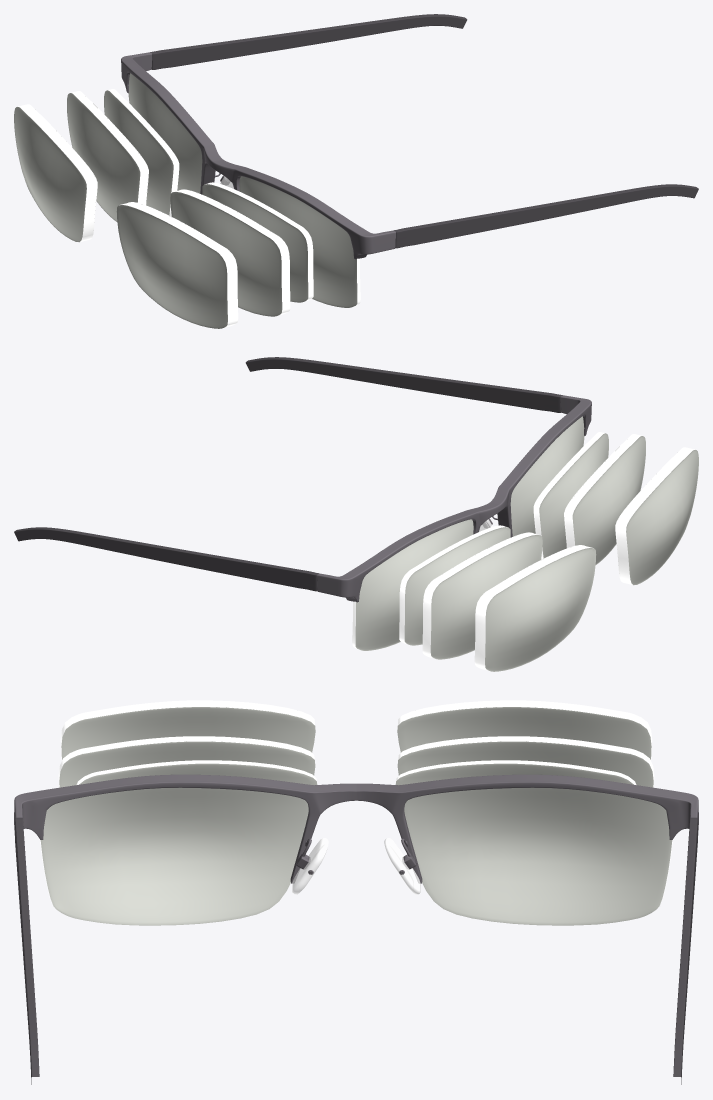
The model's file is Glassesthickness.gltf.
3 views of the same model, one above another, from view 1: azimuth 30°, elevation 25°; view 2: azimuth 150°, elevation 25°; view 3: azimuth 270°, elevation 25° (orthographic). The views are drawn at different scales.
Parts seen in each view (by area): view 1: GLASSES_GLASSES.007, GLASSES_FRONT; view 2: GLASSES_GLASSES.007, GLASSES_FRONT; view 3: GLASSES_GLASSES.007, GLASSES_FRONT, GLASSES_FRONT.001.
Part boxes in pixels (left/top/right/bottom): GLASSES_GLASSES.007: left=14, top=73, right=360, bottom=328; GLASSES_FRONT: left=121, top=14, right=698, bottom=259; GLASSES_GLASSES.007: left=352, top=416, right=698, bottom=671; GLASSES_FRONT: left=14, top=357, right=591, bottom=602; GLASSES_GLASSES.007: left=40, top=700, right=672, bottom=925; GLASSES_FRONT: left=14, top=774, right=698, bottom=1084; GLASSES_FRONT.001: left=292, top=838, right=420, bottom=894.
Size of the model in its own units: 4.55 by 0.9288 by 4.02.
5 materials, 2 textured.
